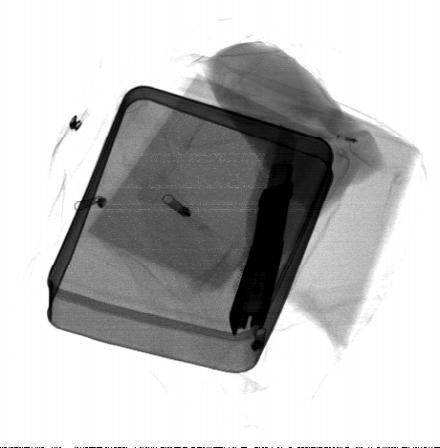Knife: (228, 121, 298, 340)
